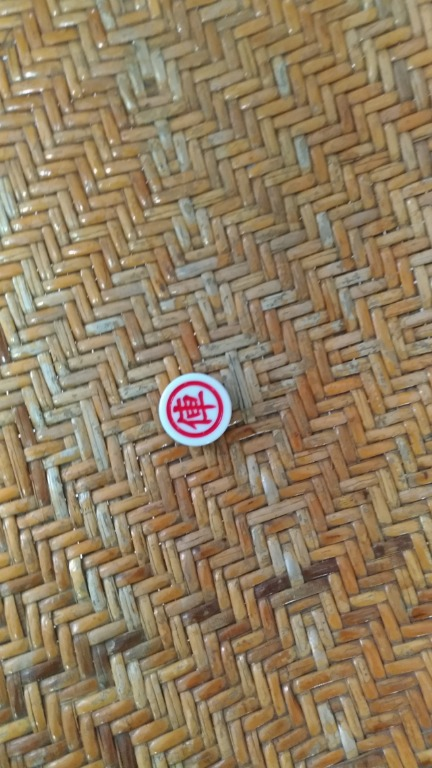r-rook: (146, 364, 256, 458)
